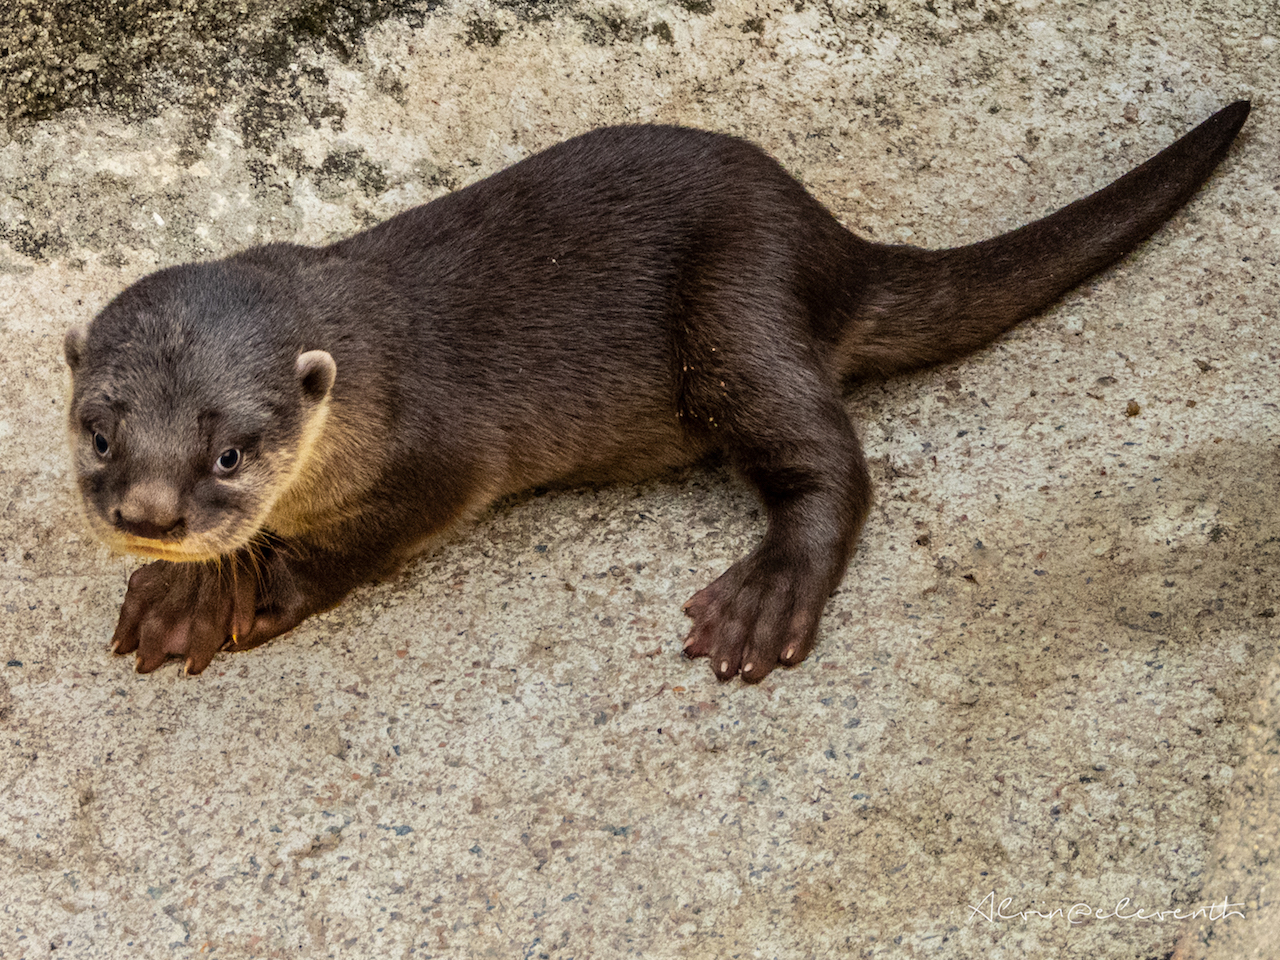otter: (48, 77, 1259, 710)
